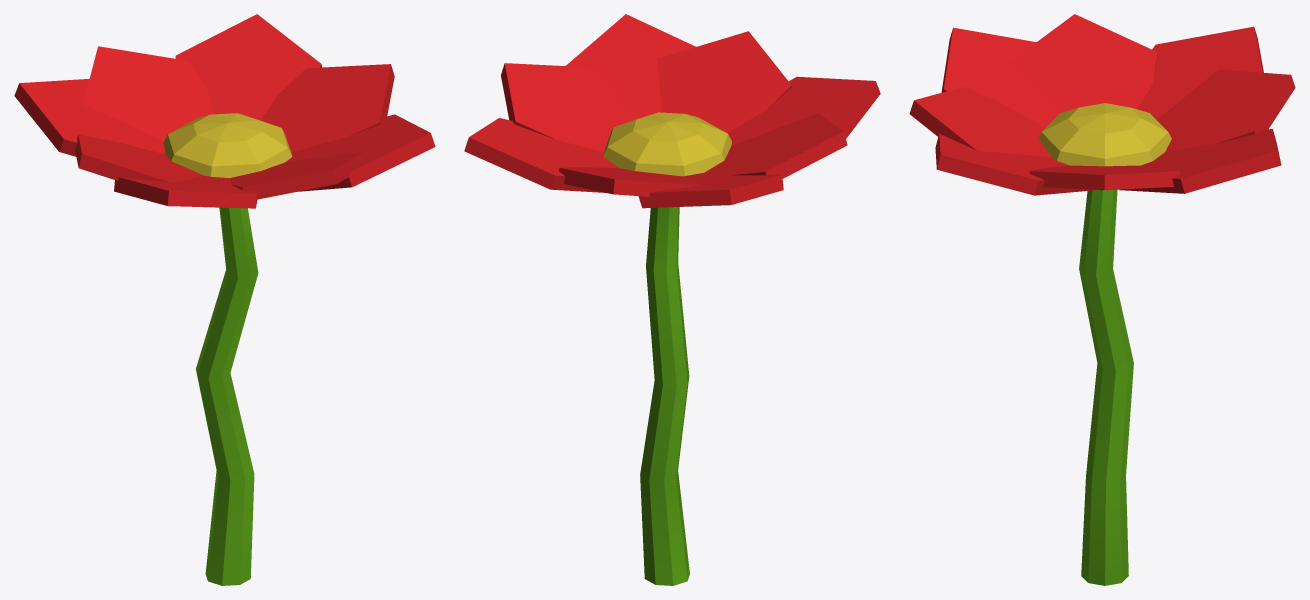
The model's file is Flower 3.fbx.
3 views of the same model, side by side, from view 1: azimuth 30°, elevation 25°; view 2: azimuth 150°, elevation 25°; view 3: azimuth 270°, elevation 25° (orthographic).
Visible parts, largest first — view 1: Flower_3; view 2: Flower_3; view 3: Flower_3.
Part boxes in pixels (x1=…): Flower_3: x1=14, y1=14, x2=435, y2=585; Flower_3: x1=464, y1=14, x2=880, y2=585; Flower_3: x1=909, y1=14, x2=1295, y2=585.
Bounding box in the file's own units: 38.84 × 52.98 × 38.47.
Materials: 1 (1 with a texture image).
